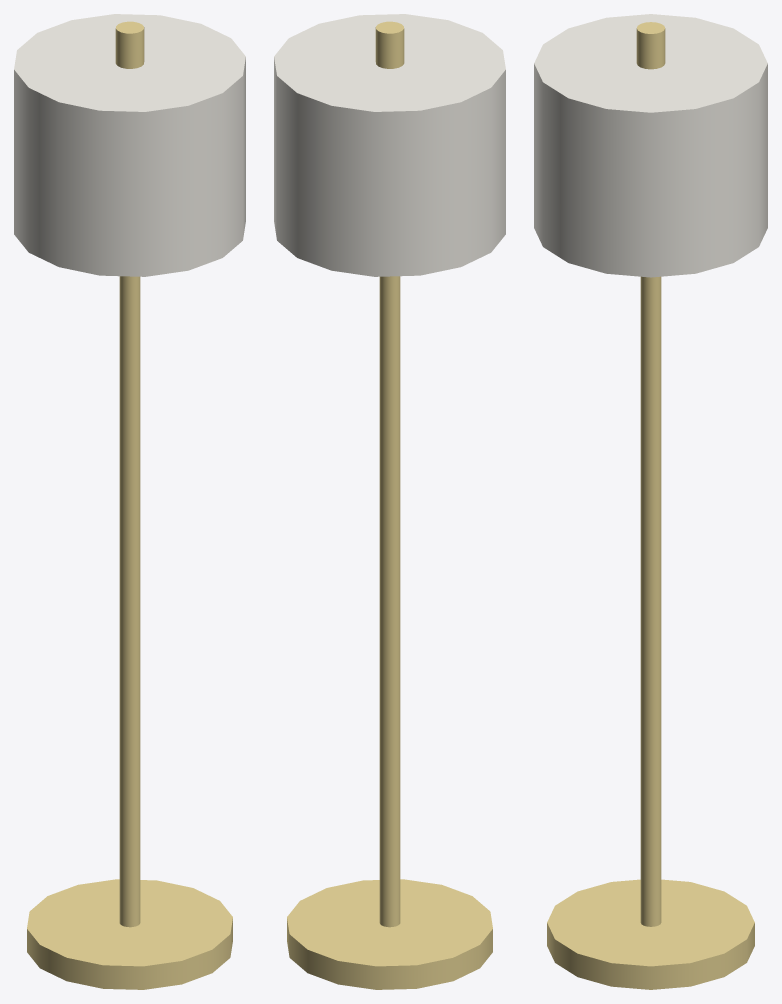
File: LIGHT_001.glb
The picture shows the model from 3 angles, left to right: view 1: azimuth 30°, elevation 25°; view 2: azimuth 150°, elevation 25°; view 3: azimuth 270°, elevation 25°; orthographic projection.
Visible parts, largest first — view 1: FurnitureRoot; view 2: FurnitureRoot; view 3: FurnitureRoot.
Part boxes in pixels (x1=…): FurnitureRoot: x1=14, y1=14, x2=245, y2=989; FurnitureRoot: x1=274, y1=14, x2=505, y2=989; FurnitureRoot: x1=534, y1=14, x2=767, y2=989.
Size of the model in its own units: 36 by 156 by 36.
